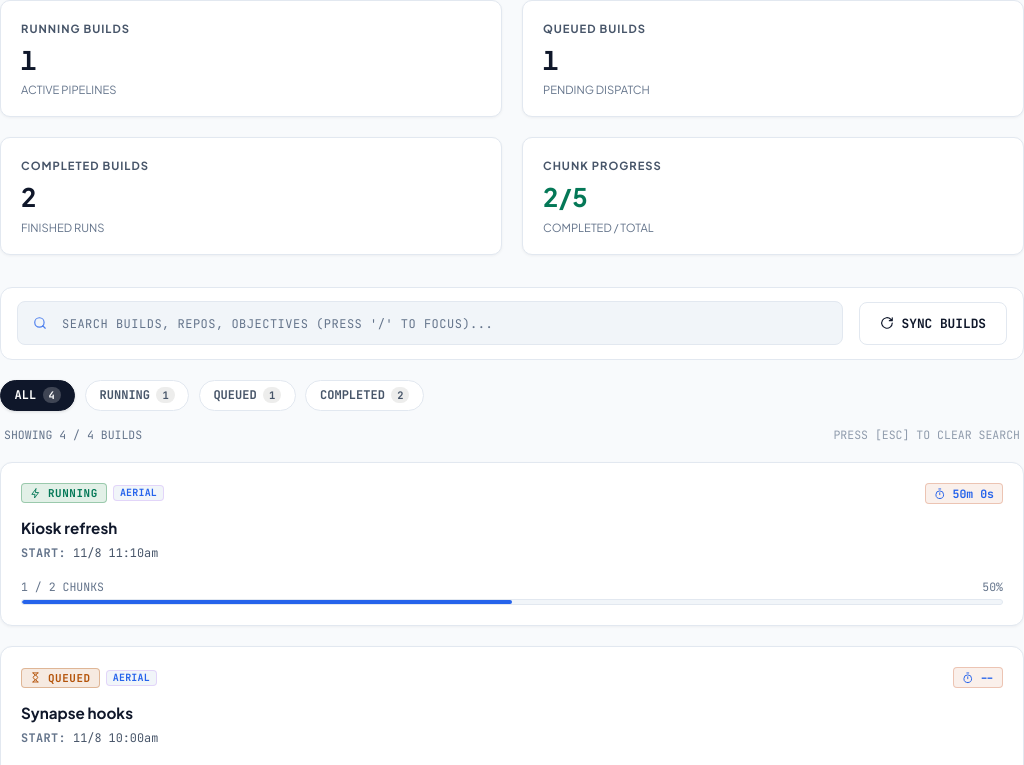
Test case: BuildsView filters › pill and search combine
Click the button "COMPLETED 2" at (365, 395), box 305,380 -> 424,411
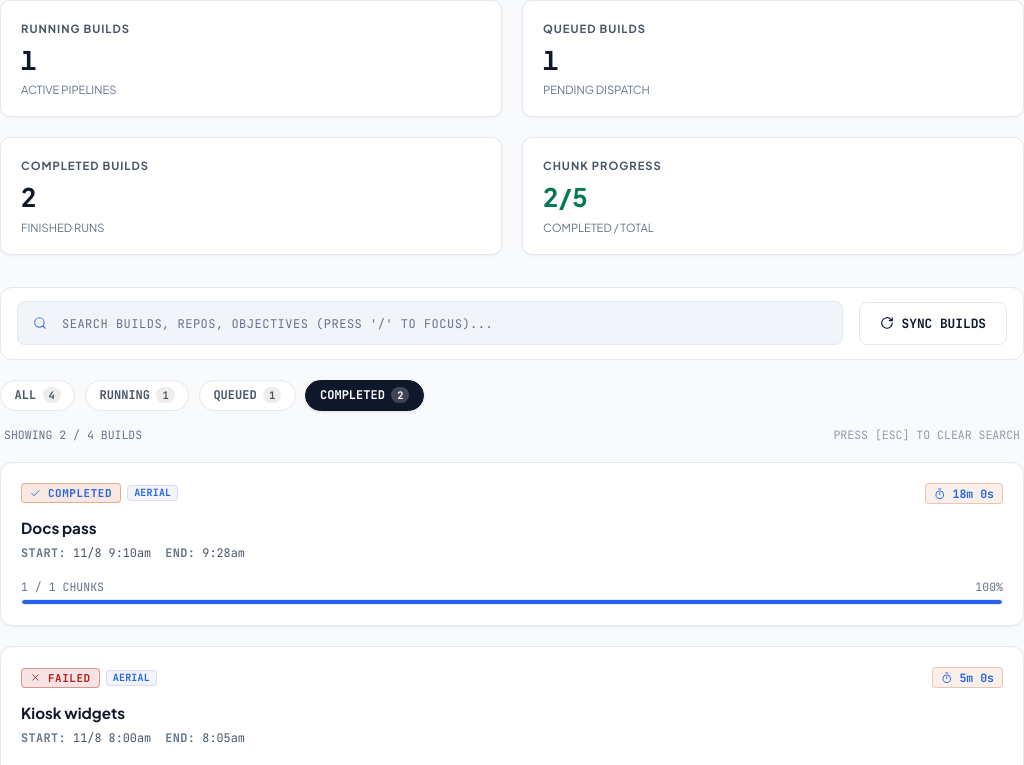
Type "kiosk" into the field labelled "SEARCH BUILDS" at (430, 323), box 17,301 -> 842,345
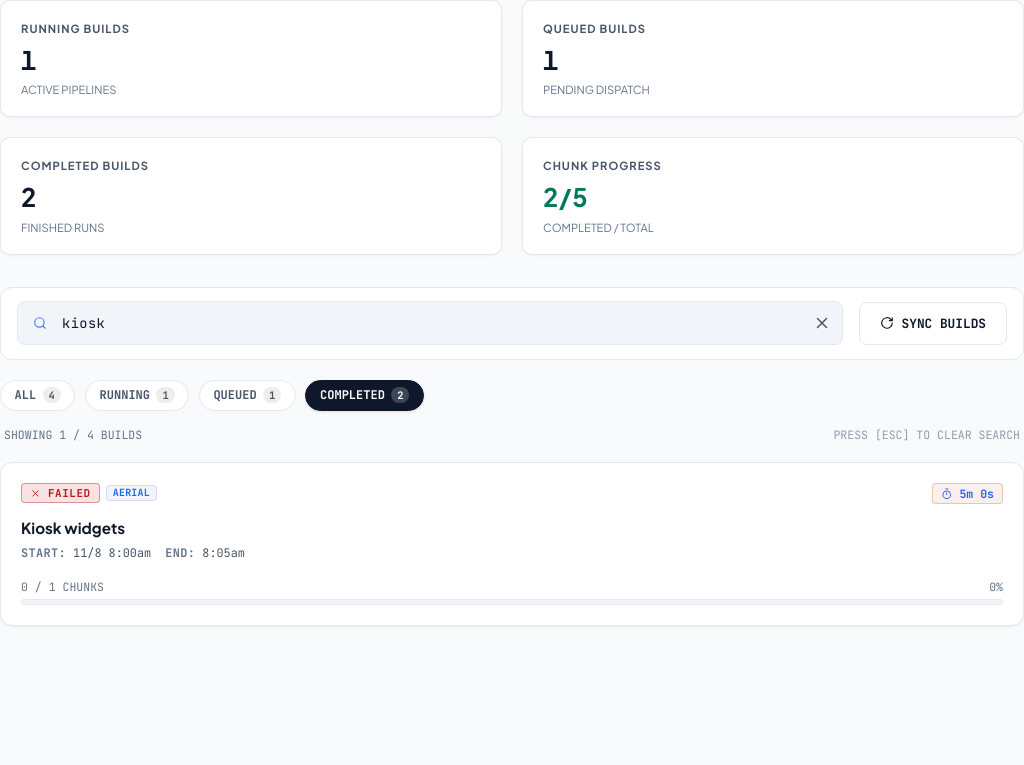
Expected: the text with id "builds-results-count" reads "SHOWING 1 / 4 BUILDS", 4,427 -> 142,442
